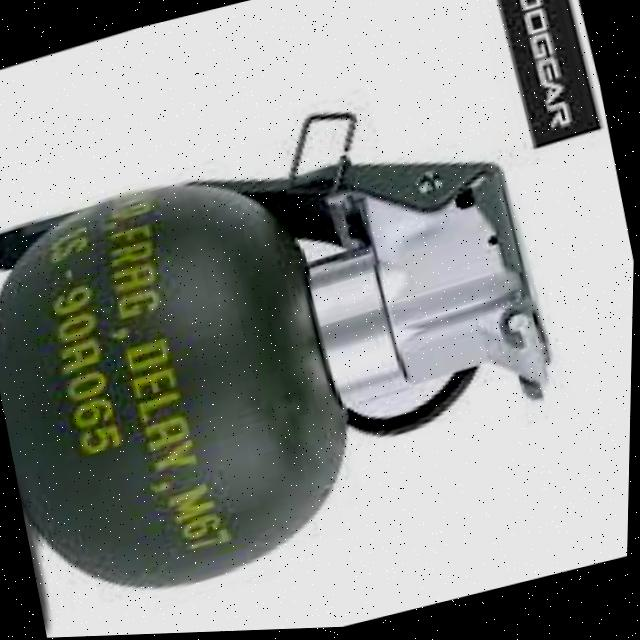grenade: (0, 53, 614, 637)
